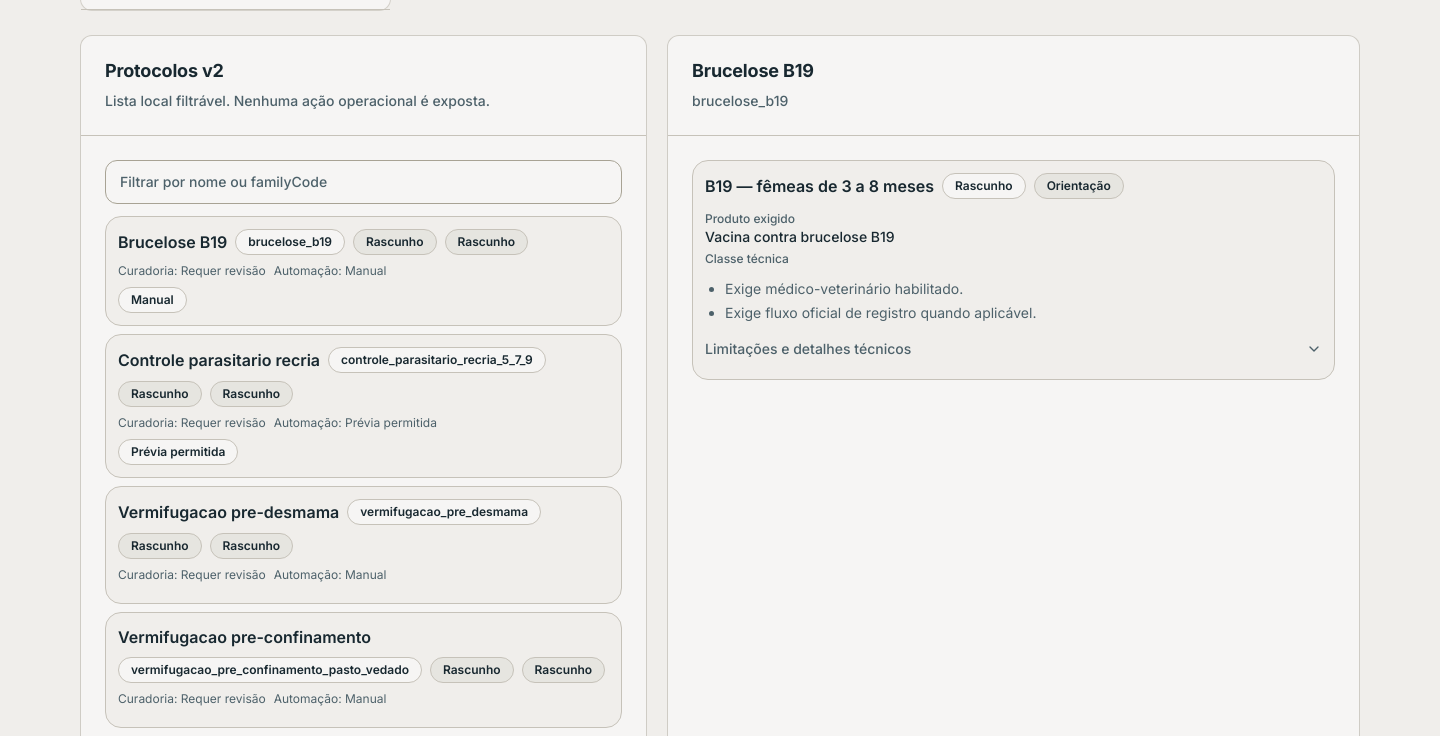
it: SanitarioCatalogoV2 › exibe antiparasitarios com grupo tecnico em detalhe read-only
(page scrolled)
What coordinates should you click on to do the following:
click the button "Controle parasitario recria"
I would click on:
 (219, 360)
Its box is [105, 334, 622, 478].
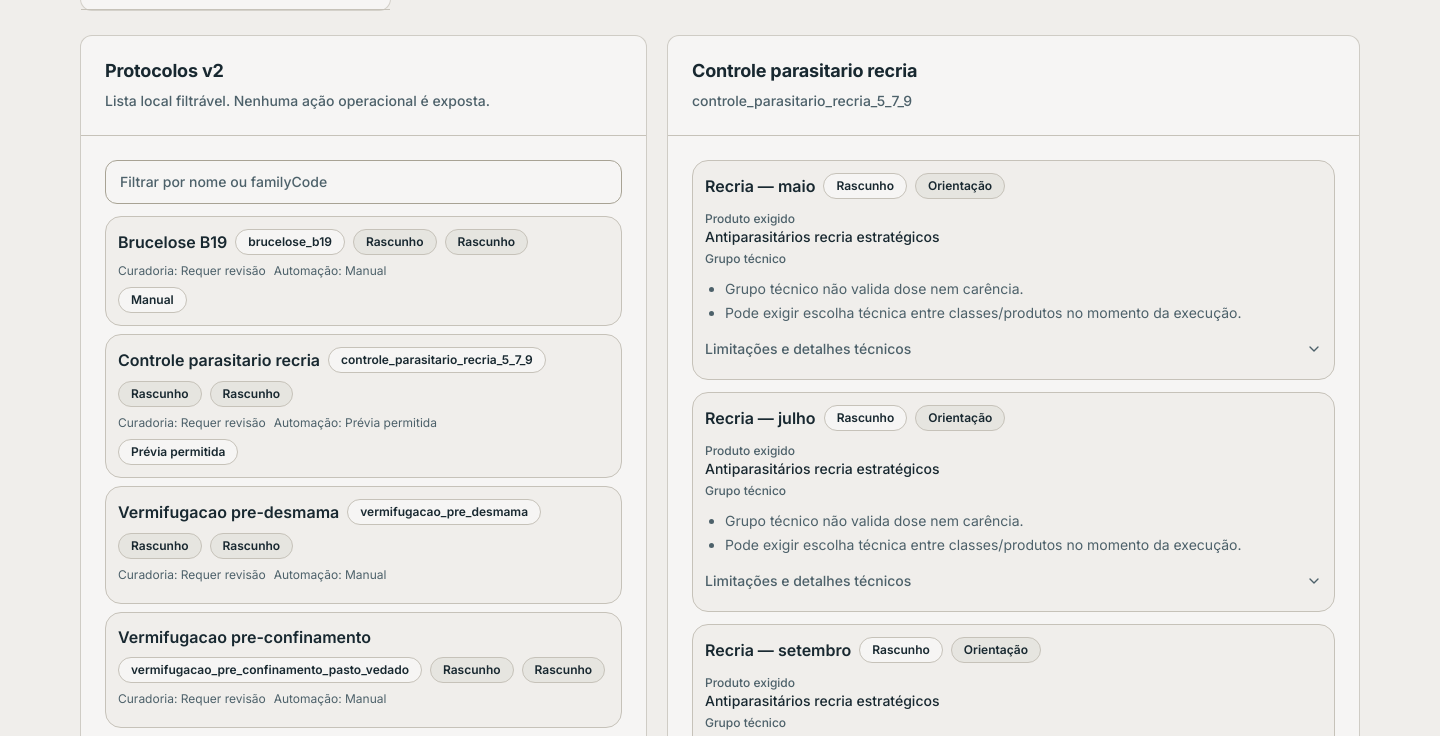
Expected: the text "recria_maio" is not shown
Expected: the text "Recria — maio" is shown, [705, 174, 815, 198]
What coordinates should you click on to do the following:
click the button "Limitações e detalhes técnicos" below "Recria — maio"
I would click on:
 (808, 348)
Its box is [705, 330, 1322, 366].
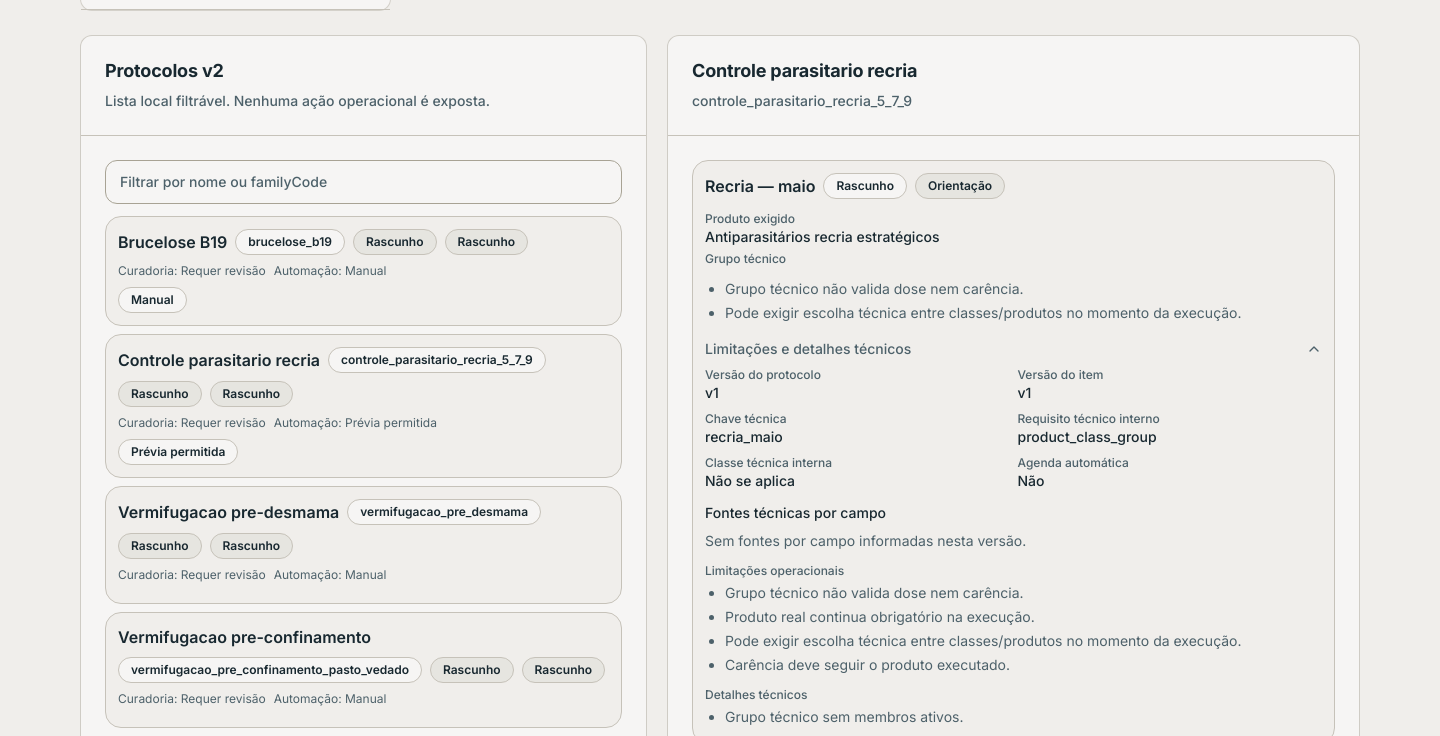
Expected: the text "Chave técnica" is shown, [705, 410, 787, 426]
Expected: the text "recria_maio" is shown, [705, 428, 783, 444]
Expected: the text "Requisito técnico interno" is shown, [1018, 410, 1160, 426]
